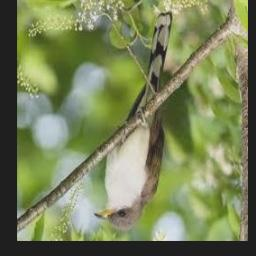Cuckoo: (94, 12, 172, 230)
